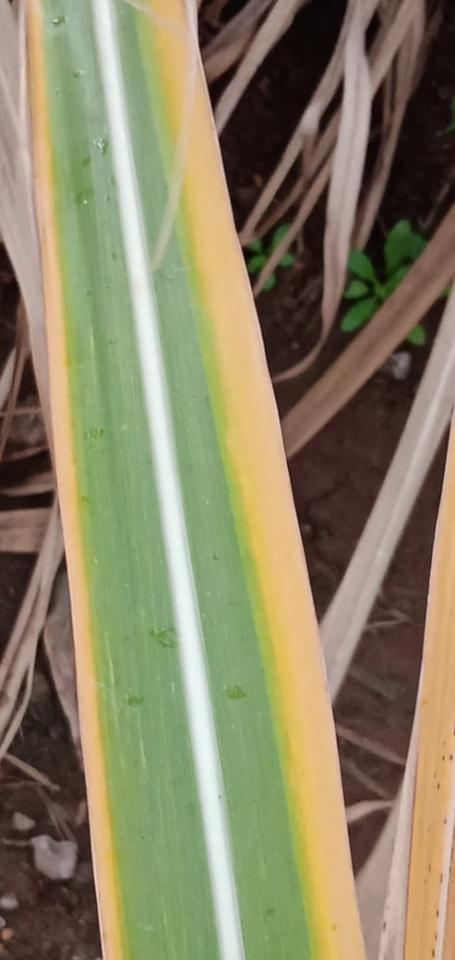Yellow: (147, 0, 367, 959), (24, 0, 124, 959), (380, 411, 454, 959)
